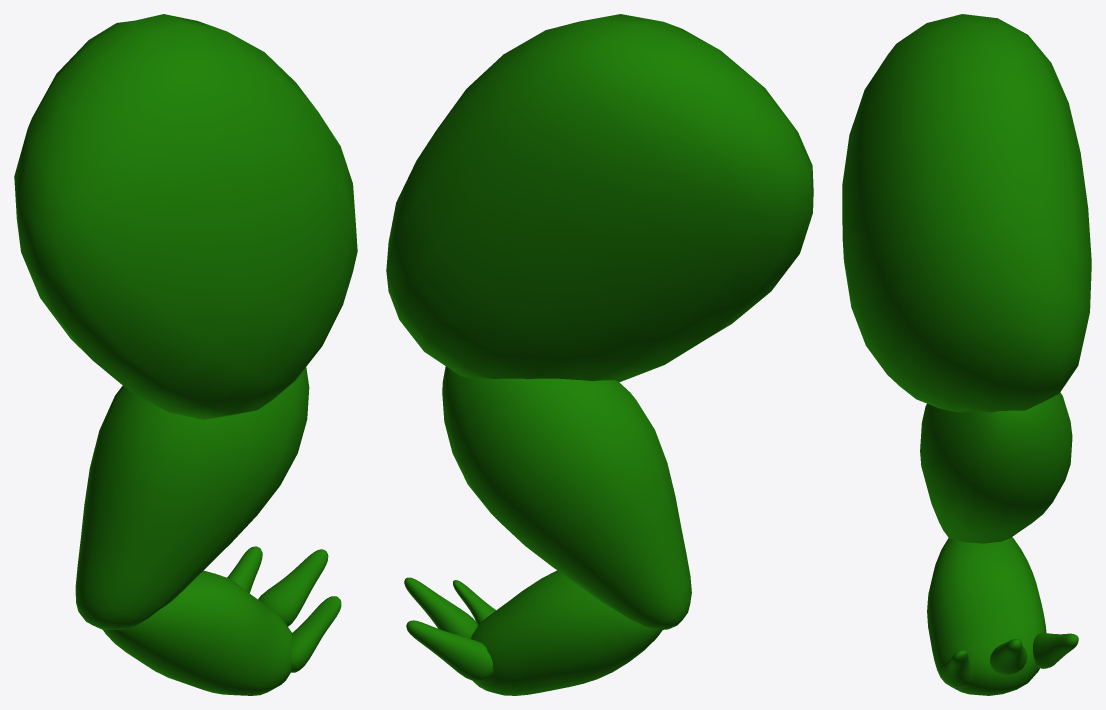
Rendered from RightLegrex.fbx.
The picture shows the model from 3 angles, left to right: view 1: azimuth 30°, elevation 25°; view 2: azimuth 150°, elevation 25°; view 3: azimuth 270°, elevation 25°; orthographic projection. The views are drawn at different scales.
Parts seen in each view (by area): view 1: Cube.001; view 2: Cube.001; view 3: Cube.001.
Boxes of the visible parts, x1,y1,x2,y2 form: Cube.001: (14, 14, 357, 695); Cube.001: (386, 14, 813, 695); Cube.001: (842, 14, 1091, 695).
Size of the model in its own units: 246 by 453 by 166.
